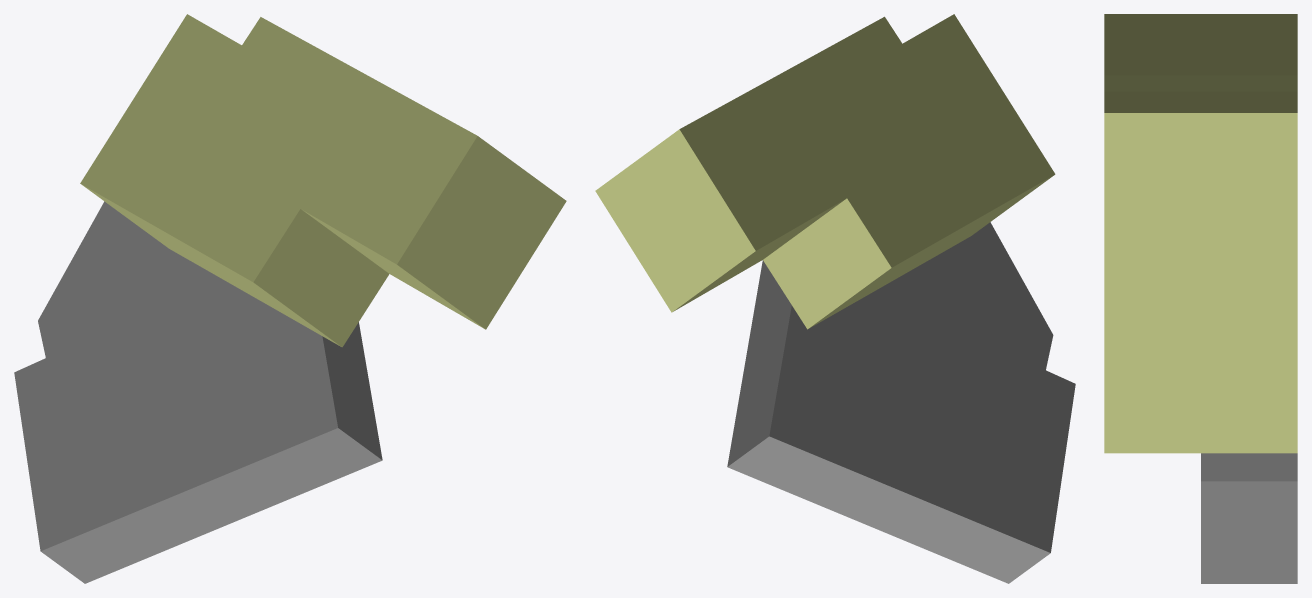
3 renders of one model, left to right at view 1: azimuth 30°, elevation 25°; view 2: azimuth 150°, elevation 25°; view 3: azimuth 270°, elevation 25°, orthographic. The views are drawn at different scales.
Visible parts, largest first — view 1: 0_3_0_2_1_1_1_1_3; view 2: 0_3_0_2_1_1_1_1_3; view 3: 0_3_0_2_1_1_1_1_3.
Boxes of the visible parts, x1=… form: 0_3_0_2_1_1_1_1_3: x1=14, y1=14, x2=566, y2=583; 0_3_0_2_1_1_1_1_3: x1=595, y1=14, x2=1075, y2=583; 0_3_0_2_1_1_1_1_3: x1=1104, y1=14, x2=1297, y2=583.
Bounding box in the file's own units: 18.03 × 18.65 × 6.
